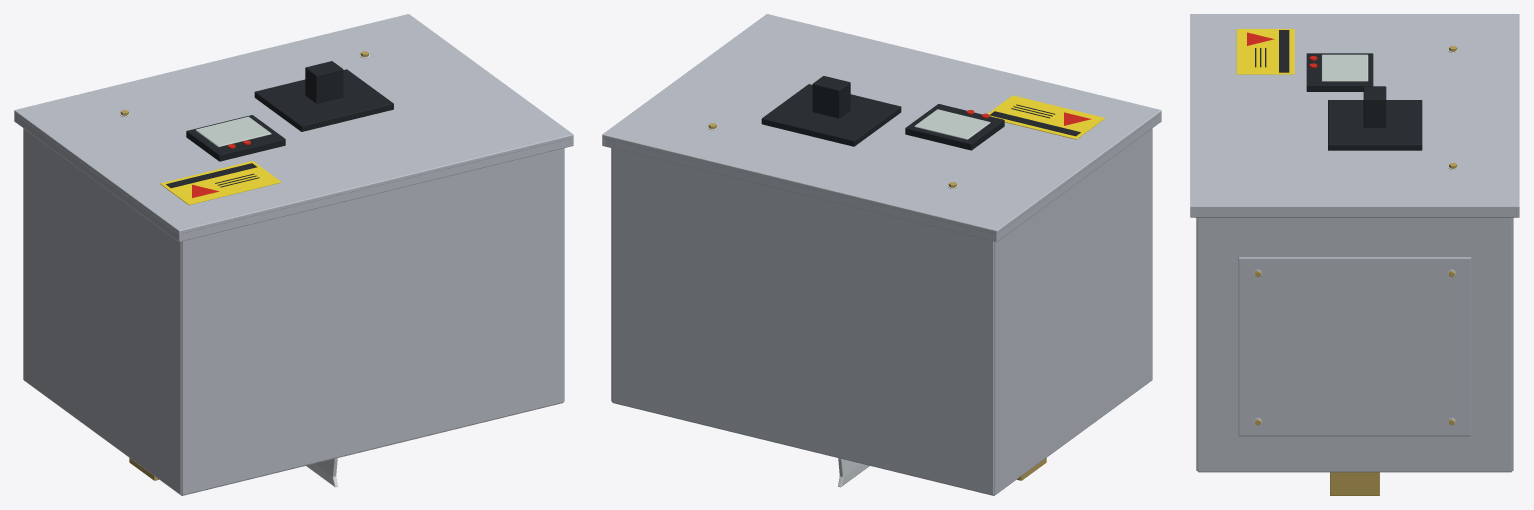
File: tap-off-outlet-top.glb
The picture shows the model from 3 angles, left to right: view 1: azimuth 30°, elevation 25°; view 2: azimuth 150°, elevation 25°; view 3: azimuth 270°, elevation 25°; orthographic projection.
Visible parts, largest first — view 1: Side sheet, Lid sheet, End sheet, Switch escutcheon, Lid long return, Yellow danger label, Display bezel, Black outlet control, Lid end return, Display face; view 2: Side sheet.001, Lid sheet, End sheet, Switch escutcheon, Lid long return.001, Yellow danger label, Display bezel, Black outlet control, Lid end return, Display face; view 3: Lid sheet, Gland plate, End sheet.001, Switch escutcheon, Lid end return.001, Yellow danger label, Display bezel, Display face, Earth return.001, Black outlet control, Rear mounting panel, Side sheet (+2 smaller).
Boxes of the visible parts, x1,y1,x2,y2 form: Side sheet: (181, 148, 564, 495); Lid sheet: (14, 14, 573, 233); End sheet: (23, 128, 181, 494); Switch escutcheon: (254, 69, 393, 131); Lid long return: (177, 138, 571, 241); Yellow danger label: (160, 161, 281, 205); Display bezel: (186, 115, 285, 161); Black outlet control: (305, 61, 343, 103); Lid end return: (15, 115, 181, 241); Display face: (195, 116, 271, 147); Side sheet.001: (611, 148, 994, 495); Lid sheet: (602, 14, 1161, 233); End sheet: (994, 128, 1152, 494); Switch escutcheon: (761, 84, 901, 146); Lid long return.001: (604, 138, 998, 241); Yellow danger label: (988, 95, 1105, 139); Display bezel: (905, 104, 1004, 150); Black outlet control: (812, 76, 850, 118); Lid end return: (994, 115, 1160, 241); Display face: (914, 109, 990, 139); Lid sheet: (1190, 14, 1519, 209); Gland plate: (1238, 257, 1471, 436); End sheet.001: (1197, 217, 1512, 471); Switch escutcheon: (1328, 100, 1422, 150); Lid end return.001: (1193, 209, 1516, 217); Yellow danger label: (1236, 29, 1294, 74); Display bezel: (1306, 53, 1373, 91); Display face: (1321, 54, 1368, 81); Earth return.001: (1330, 472, 1379, 495); Black outlet control: (1363, 86, 1386, 127); Rear mounting panel: (1197, 471, 1512, 472); Side sheet: (1196, 217, 1197, 470).
Bounding box in the file's own units: 0.362 × 0.3245 × 0.262.
